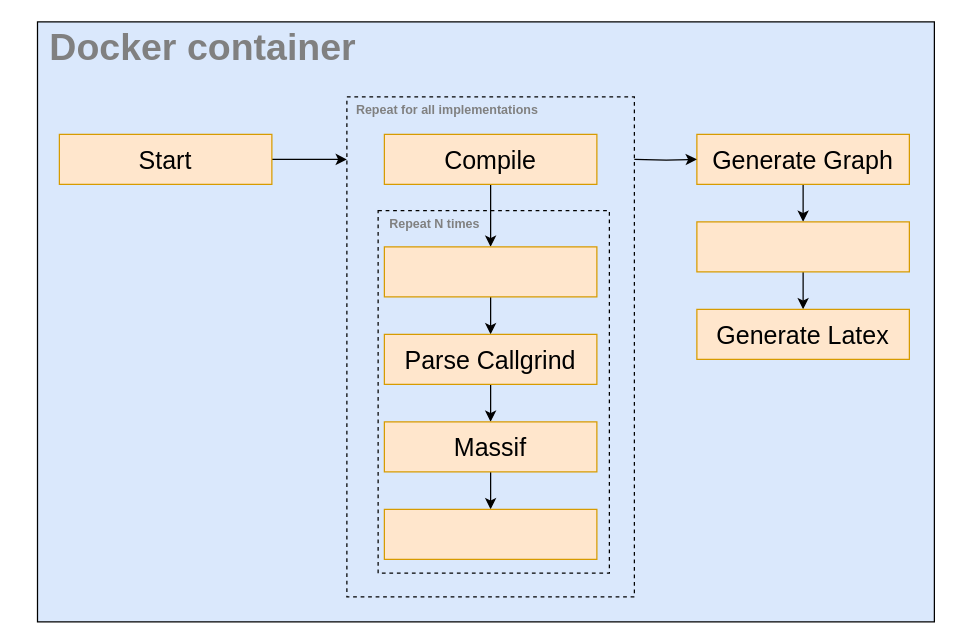
The diagram is 956 pixels wide and 644 high, and some of its shapes have lost their labels. Here are the shapes that lost their labels. From the top down, the centre of each, then its label:
[802,246]: Generate HTML
[490,271]: Callgrind
[490,533]: Parse Massif
